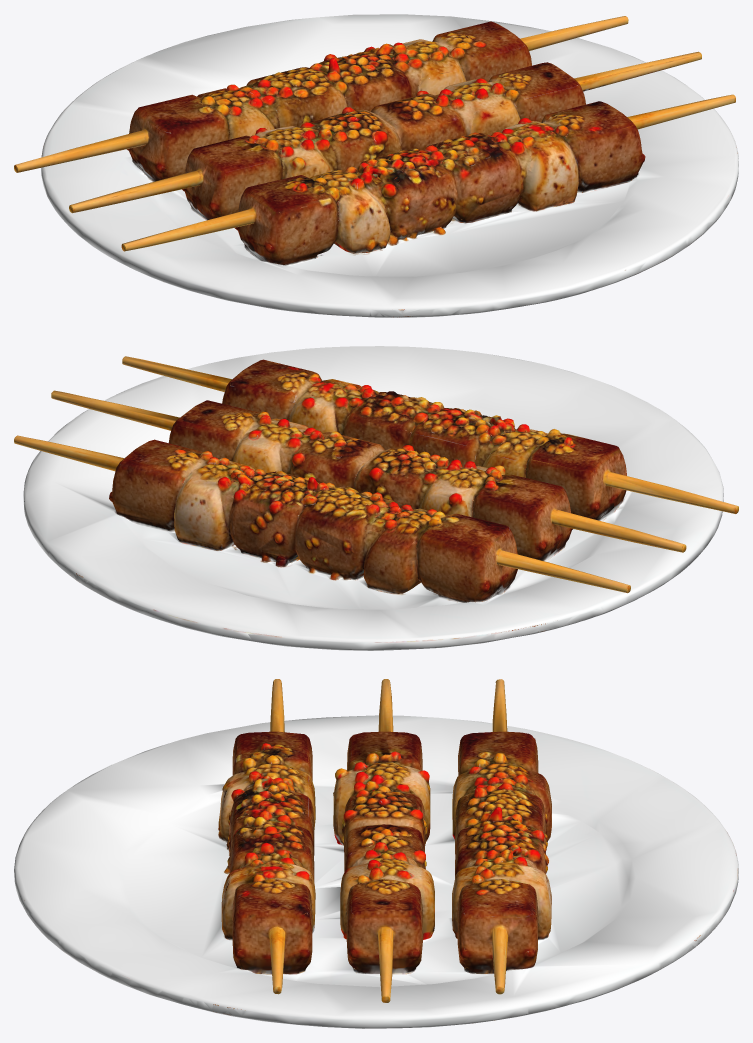
The model's file is plated-skewer.glb.
3 views of the same model, one above another, from view 1: azimuth 30°, elevation 25°; view 2: azimuth 150°, elevation 25°; view 3: azimuth 270°, elevation 25° (orthographic). The views are drawn at different scales.
Parts seen in each view (by area): view 1: mesh; view 2: mesh; view 3: mesh.
Boxes of the visible parts, <box> form: mesh: <box>14,14,738,317</box>; mesh: <box>14,346,738,650</box>; mesh: <box>14,679,738,1028</box>.
Size of the model in its own units: 2 by 0.275 by 1.93.
Materials: 1 (1 with a texture image).
